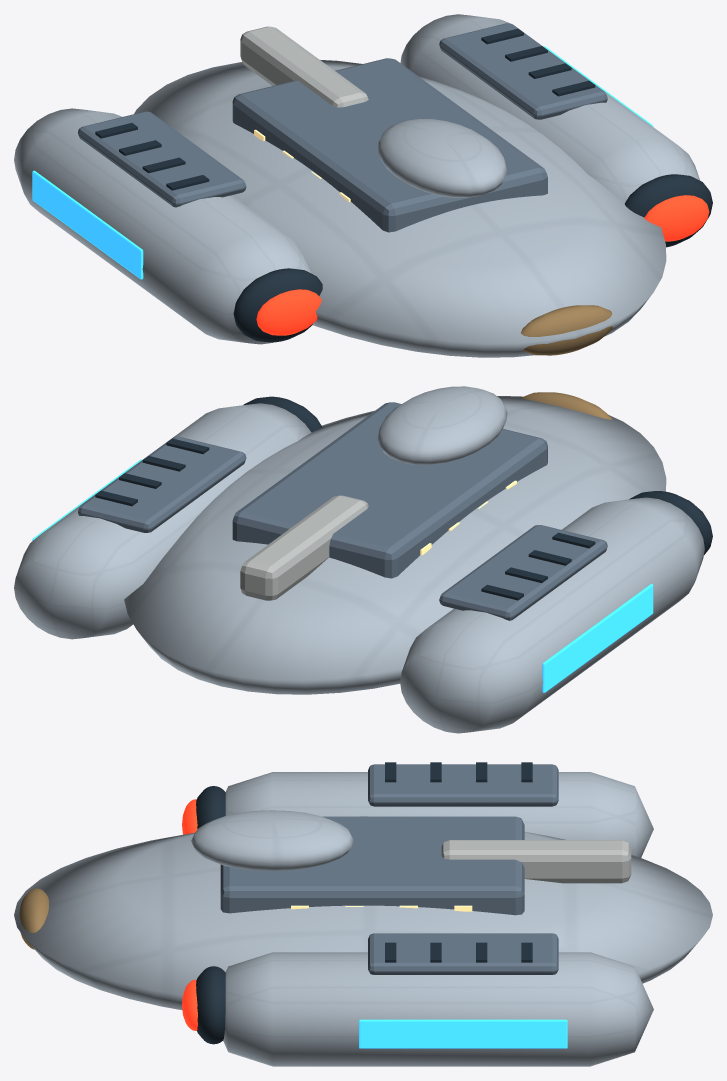
File: Escort_Runtime_LOD1.glb
The picture shows the model from 3 angles, top to bottom: view 1: azimuth 30°, elevation 25°; view 2: azimuth 150°, elevation 25°; view 3: azimuth 270°, elevation 25°; orthographic projection. The views are drawn at different scales.
Parts seen in each view (by area): view 1: Escort_LOD1; view 2: Escort_LOD1; view 3: Escort_LOD1.
Part boxes in pixels (x1,y1,x2,y2): Escort_LOD1: (14,14,712,357); Escort_LOD1: (14,386,712,733); Escort_LOD1: (14,762,712,1066).
Bounding box in the file's own units: 138 × 39.74 × 170.
Materials: 1 (1 with a texture image).
